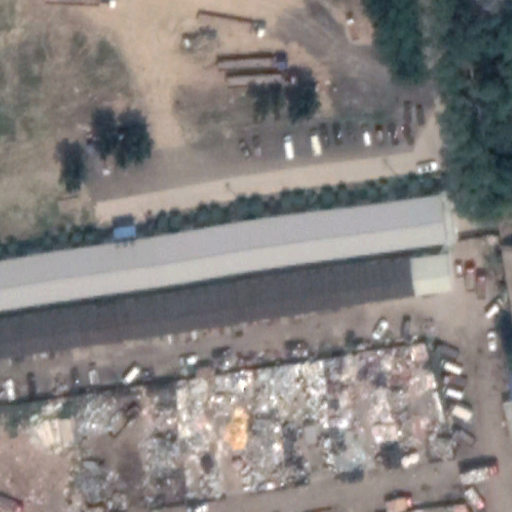msw: (72, 340, 445, 507)
